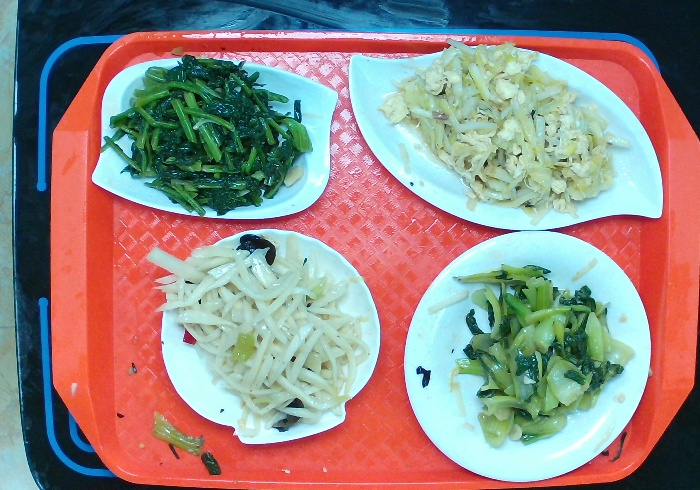RJxy-Bei_Ke_Wan: (156, 226, 387, 450)
RJxy-Jian_Jiao_Fang_Die: (88, 52, 342, 221)
RJxy-Jian_Jiao_Pan: (345, 42, 671, 237)
RJxy-Yuan_Pan: (399, 227, 658, 485)
